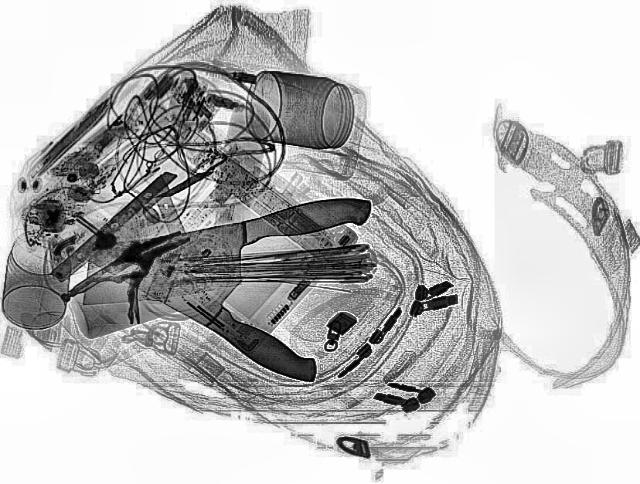Knife: (79, 207, 361, 391), (61, 193, 386, 309)
